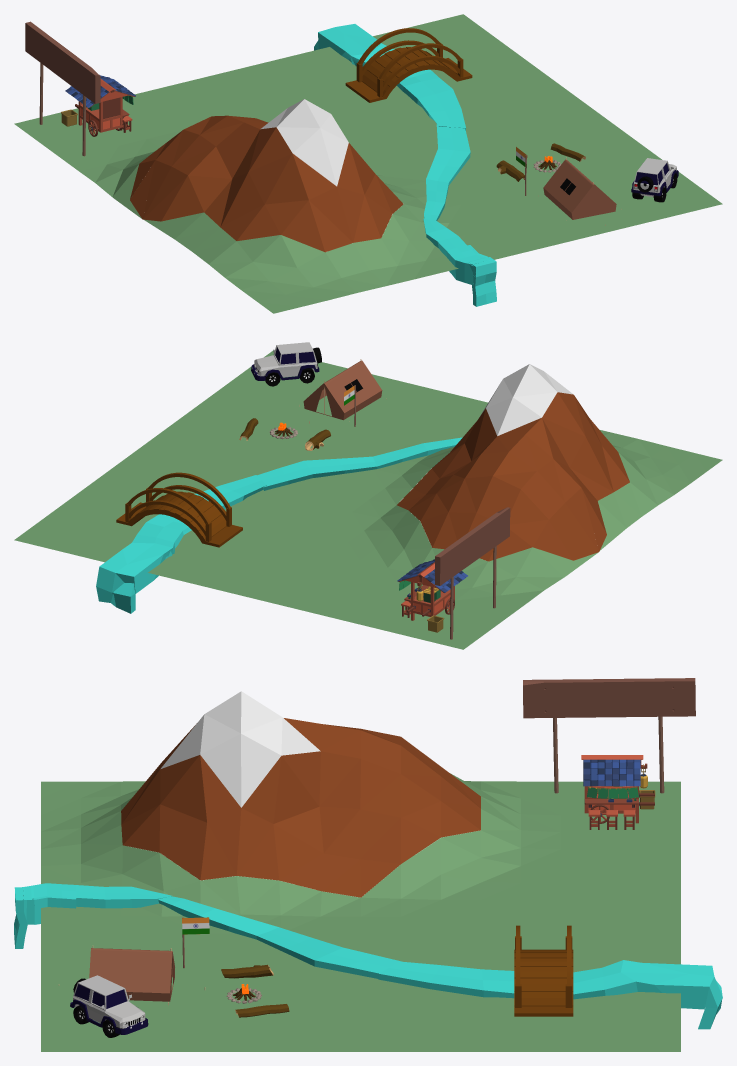
Rendered from main.glb.
3 renders of one model, top to bottom at view 1: azimuth 30°, elevation 25°; view 2: azimuth 150°, elevation 25°; view 3: azimuth 270°, elevation 25°, orthographic. The views are drawn at different scales.
Visible parts, largest first — view 1: green-material, second-material, Object_2, river3_22, snow-material, river1_20, Planke_002_Material #2_0, river2_21, Box020, Scene_Amarelo_0, Cube_25, Scene_Azul Escuro_0 (+1 smaller); view 2: green-material, second-material, river3_22, Object_2, snow-material, river2_21, Planke_002_Material #2_0, Box020, Scene_Amarelo_0, Scene_Azul Escuro_0, Cube_25, Plane.010_78; view 3: green-material, second-material, river3_22, snow-material, Planke_002_Material #2_0, river2_21, Object_2, river1_20, Box020, Scene_Amarelo_0, Plane.010_78, Scene_Azul Escuro_0.
Boxes of the visible parts, x1,y1,x2,y2 form: green-material: (14, 14, 722, 313); second-material: (130, 115, 403, 252); Object_2: (345, 28, 472, 102); river3_22: (314, 24, 466, 130); snow-material: (260, 99, 348, 186); river1_20: (423, 218, 496, 306); Planke_002_Material #2_0: (25, 21, 100, 103); river2_21: (424, 124, 470, 220); Box020: (543, 159, 616, 219); Scene_Amarelo_0: (633, 158, 676, 196); Cube_25: (78, 97, 122, 132); Scene_Azul Escuro_0: (631, 163, 678, 196); green-material: (14, 350, 722, 649); second-material: (397, 392, 629, 561); river3_22: (96, 475, 266, 613); Object_2: (116, 472, 242, 547); snow-material: (479, 364, 573, 435); river2_21: (257, 437, 462, 490); Planke_002_Material #2_0: (434, 507, 510, 585); Box020: (303, 360, 382, 420); Scene_Amarelo_0: (254, 342, 317, 377); Scene_Azul Escuro_0: (251, 347, 319, 380); Cube_25: (411, 582, 454, 620); Plane.010_78: (397, 559, 467, 592); green-material: (41, 773, 680, 1051); second-material: (121, 718, 480, 897); river3_22: (378, 960, 722, 1029); snow-material: (161, 691, 320, 807); Planke_002_Material #2_0: (523, 678, 695, 718); river2_21: (158, 896, 401, 978); Object_2: (514, 925, 573, 1016); river1_20: (14, 883, 171, 948); Box020: (89, 948, 174, 1001); Scene_Amarelo_0: (73, 975, 145, 1028); Plane.010_78: (583, 759, 640, 786); Scene_Azul Escuro_0: (70, 984, 148, 1034).
Size of the model in its own units: 251 by 84.71 by 276.
44 materials, 1 textured.
